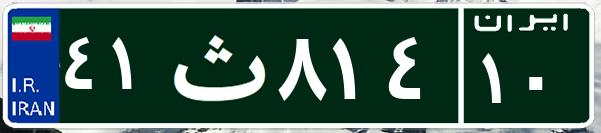0: (525, 38, 570, 115)
1: (330, 28, 385, 110), (475, 38, 525, 113), (110, 28, 158, 105)
4: (385, 28, 445, 110), (57, 26, 110, 107)
8: (273, 28, 330, 110)
ث: (158, 15, 273, 115)
